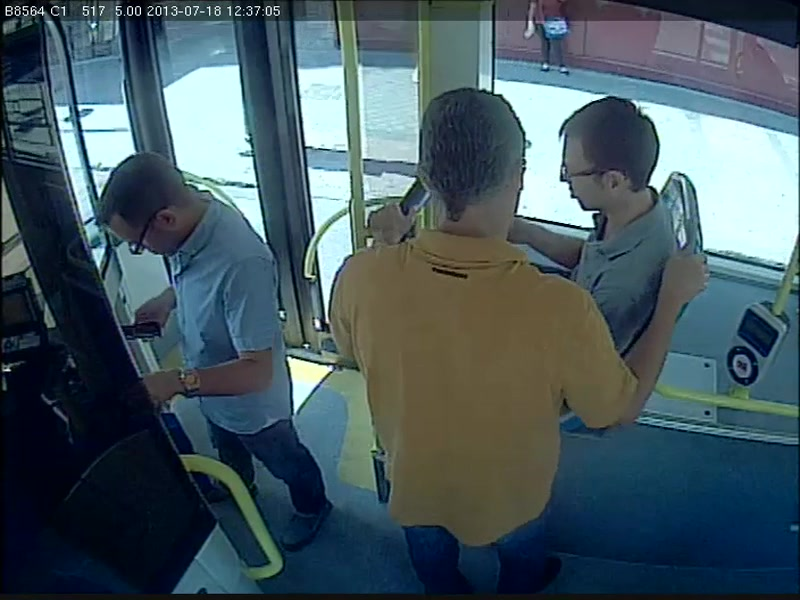Head: (411, 83, 531, 249), (551, 80, 672, 222), (87, 145, 213, 268)
